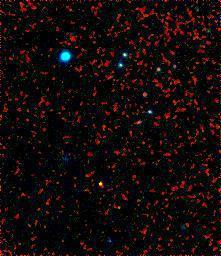star: (85, 173, 115, 203)
